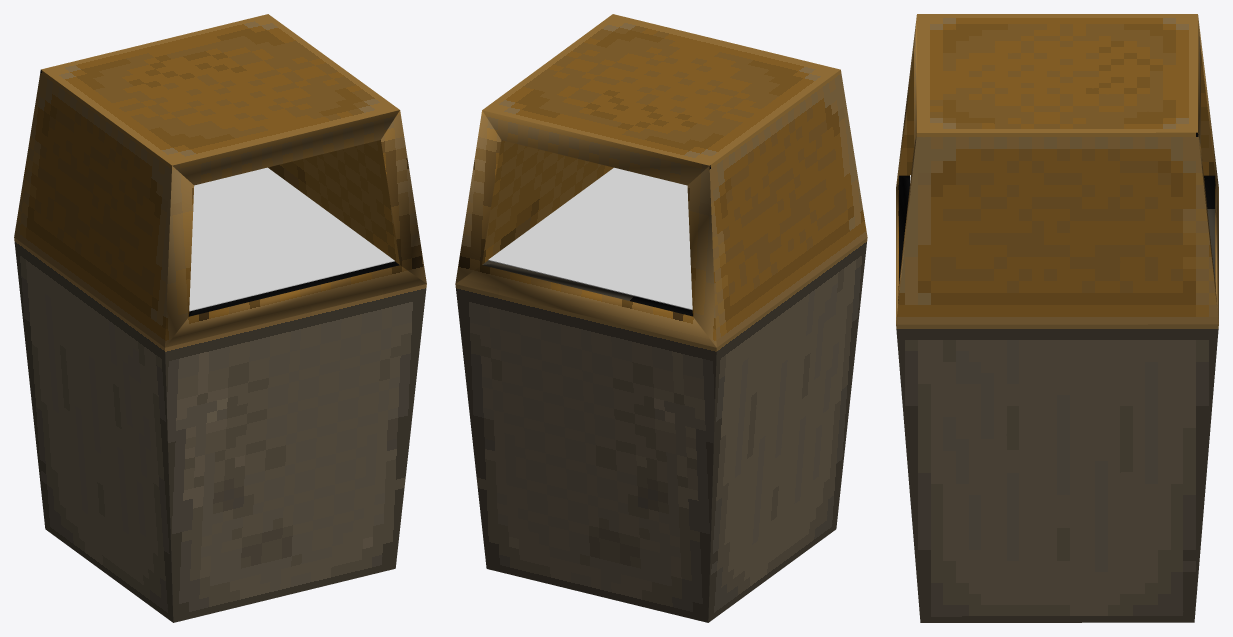
The model's file is scott_bin_colliders.gltf.
The picture shows the model from 3 angles, left to right: view 1: azimuth 30°, elevation 25°; view 2: azimuth 150°, elevation 25°; view 3: azimuth 270°, elevation 25°; orthographic projection. The views are drawn at different scales.
Parts seen in each view (by area): view 1: Bin.Front, Bin.Left, Bin.Roof, Bin.TopLeft, Bin.ItemBlocker, Bin.TopRight; view 2: Bin.Back, Bin.Left, Bin.Roof, Bin.TopLeft, Bin.ItemBlocker, Bin.TopRight; view 3: Bin.Right, Bin.TopRight, Bin.Roof, Bin.TopLeft, Bin.Back, Bin.Front.
Part boxes in pixels (x1=…): Bin.Front: x1=165, y1=263, x2=426, y2=622; Bin.Left: x1=14, y1=237, x2=192, y2=622; Bin.Roof: x1=41, y1=14, x2=399, y2=185; Bin.TopLeft: x1=14, y1=70, x2=194, y2=347; Bin.ItemBlocker: x1=189, y1=167, x2=394, y2=311; Bin.TopRight: x1=268, y1=110, x2=426, y2=283; Bin.Back: x1=455, y1=263, x2=716, y2=622; Bin.Left: x1=688, y1=237, x2=867, y2=622; Bin.Roof: x1=482, y1=14, x2=840, y2=185; Bin.TopLeft: x1=687, y1=70, x2=867, y2=347; Bin.ItemBlocker: x1=488, y1=167, x2=692, y2=310; Bin.TopRight: x1=455, y1=110, x2=613, y2=283; Bin.Right: x1=896, y1=324, x2=1218, y2=622; Bin.TopRight: x1=896, y1=132, x2=1218, y2=324; Bin.Roof: x1=914, y1=14, x2=1200, y2=146; Bin.TopLeft: x1=896, y1=15, x2=1218, y2=186; Bin.Back: x1=1204, y1=176, x2=1218, y2=322; Bin.Front: x1=896, y1=176, x2=909, y2=322.
Bounding box in the file's own units: 1 × 1.68 × 1.
1 material, 1 textured.
